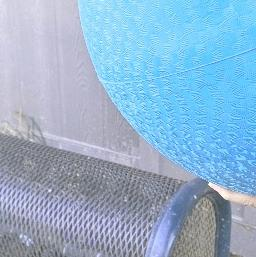algae: (77, 0, 256, 192)
